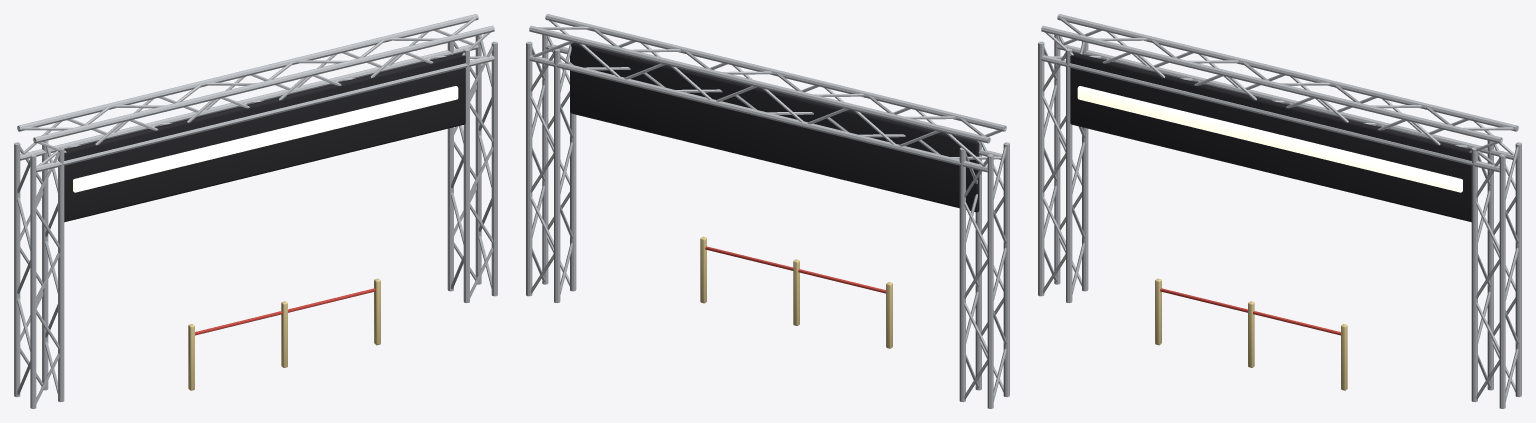
The model's file is gate.glb.
3 views of the same model, side by side, from view 1: azimuth 30°, elevation 25°; view 2: azimuth 150°, elevation 25°; view 3: azimuth 330°, elevation 25° (orthographic).
Visible parts, largest first — view 1: gate; view 2: gate; view 3: gate.
Part boxes in pixels (<box>): gate: <box>14,14,497,408</box>; gate: <box>526,14,1009,408</box>; gate: <box>1038,14,1521,408</box>.
Size of the model in its own units: 151 by 83.43 by 22.2.
